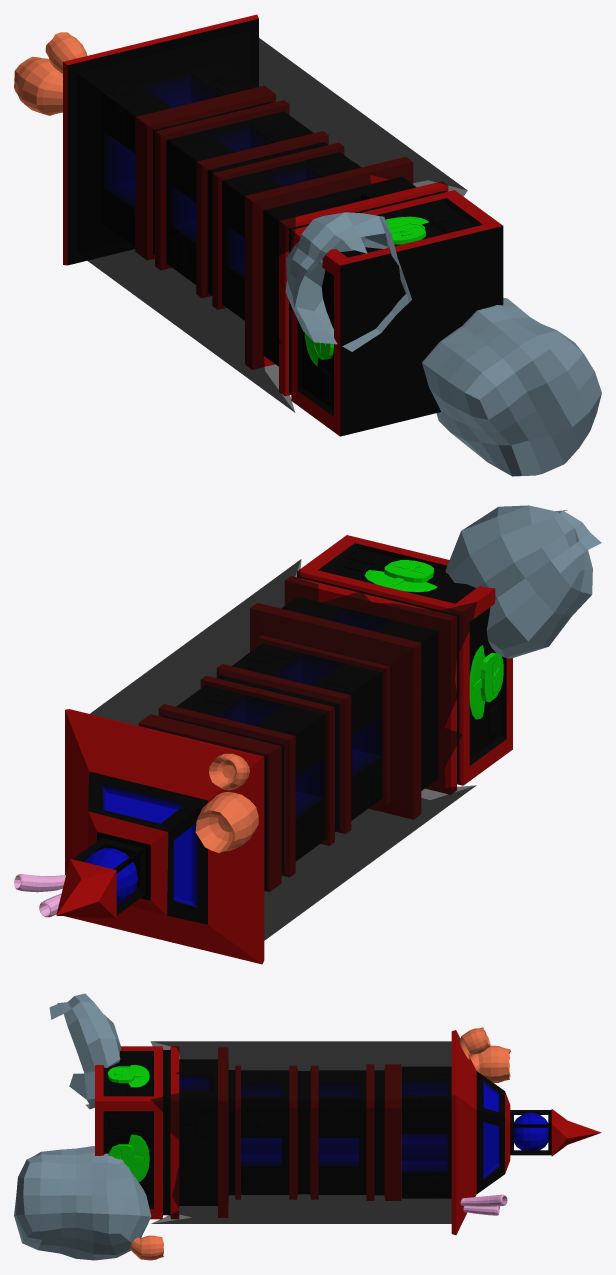
The model's file is TowerVeil.fbx.
3 renders of one model, top to bottom at view 1: azimuth 30°, elevation 25°; view 2: azimuth 150°, elevation 25°; view 3: azimuth 270°, elevation 25°, orthographic. The views are drawn at different scales.
Visible parts, largest first — view 1: Bottom; view 2: Bottom; view 3: Bottom.
Boxes of the visible parts, x1=… form: Bottom: x1=14, y1=14, x2=601, y2=476; Bottom: x1=14, y1=505, x2=601, y2=964; Bottom: x1=14, y1=993, x2=601, y2=1260.
Bounding box in the file's own units: 4.43 × 11.86 × 4.42.
